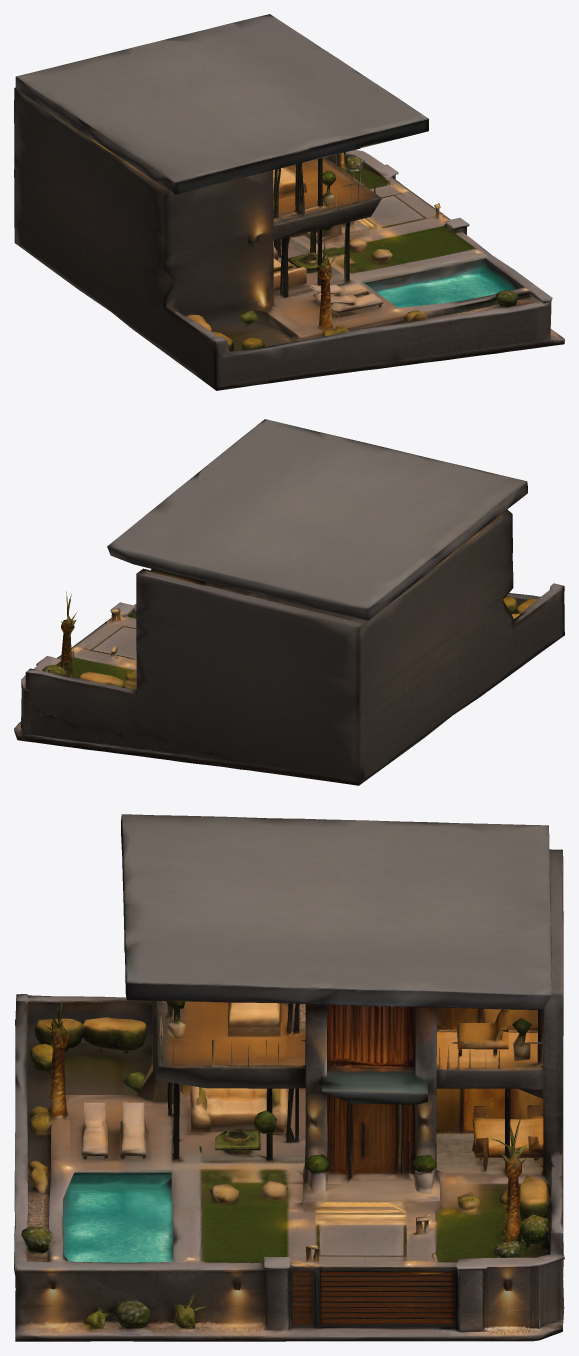
File: villa_dark.glb
3 renders of one model, top to bottom at view 1: azimuth 30°, elevation 25°; view 2: azimuth 150°, elevation 25°; view 3: azimuth 270°, elevation 25°, orthographic. The views are drawn at different scales.
Parts seen in each view (by area): view 1: tripo_node_d4e9131f-6f45-48db-8728-343fa0bd7d69; view 2: tripo_node_d4e9131f-6f45-48db-8728-343fa0bd7d69; view 3: tripo_node_d4e9131f-6f45-48db-8728-343fa0bd7d69.
Boxes of the visible parts, x1=… form: tripo_node_d4e9131f-6f45-48db-8728-343fa0bd7d69: x1=14, y1=14, x2=564, y2=390; tripo_node_d4e9131f-6f45-48db-8728-343fa0bd7d69: x1=14, y1=419, x2=564, y2=785; tripo_node_d4e9131f-6f45-48db-8728-343fa0bd7d69: x1=14, y1=814, x2=564, y2=1341.
Bounding box in the file's own units: 1 × 0.5879 × 0.9891.
Materials: 1 (1 with a texture image).
